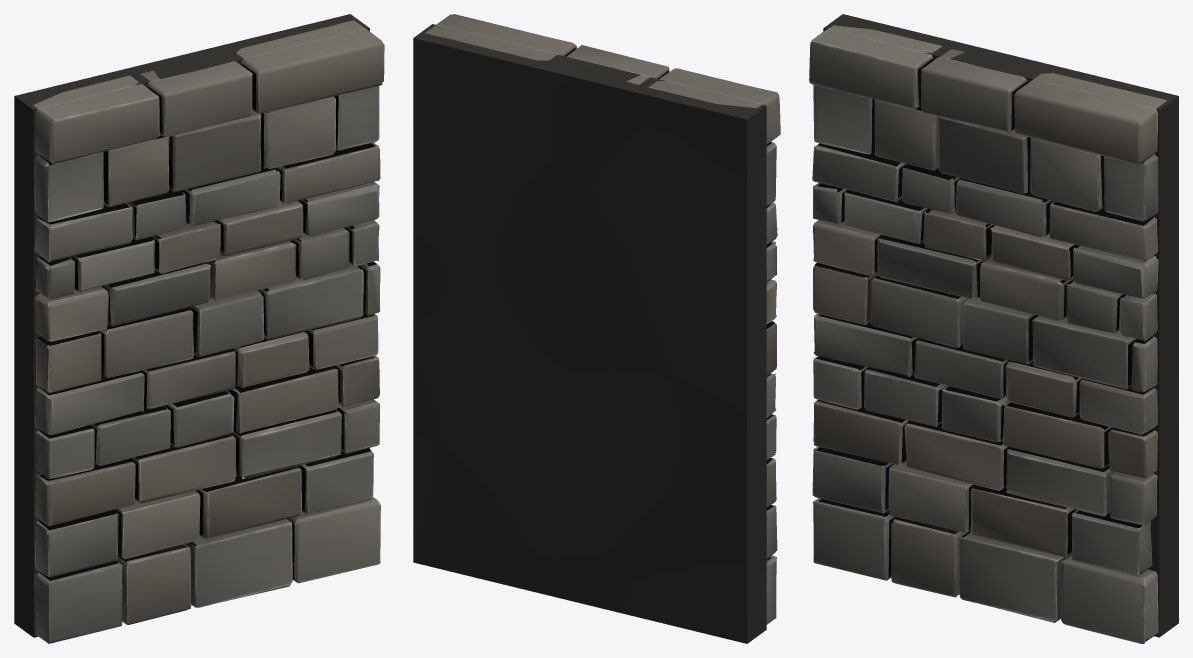
The model's file is gallows_wall_b.glb.
3 views of the same model, side by side, from view 1: azimuth 30°, elevation 25°; view 2: azimuth 150°, elevation 25°; view 3: azimuth 330°, elevation 25° (orthographic).
Visible parts, largest first — view 1: gallows_wall_b; view 2: gallows_wall_b; view 3: gallows_wall_b.
Part boxes in pixels (left/top/right/bottom): gallows_wall_b: left=14, top=14, right=384, bottom=643; gallows_wall_b: left=413, top=14, right=780, bottom=643; gallows_wall_b: left=809, top=14, right=1178, bottom=643.
Bounding box in the file's own units: 4 × 6.01 × 0.7598.
Materials: 1 (1 with a texture image).
